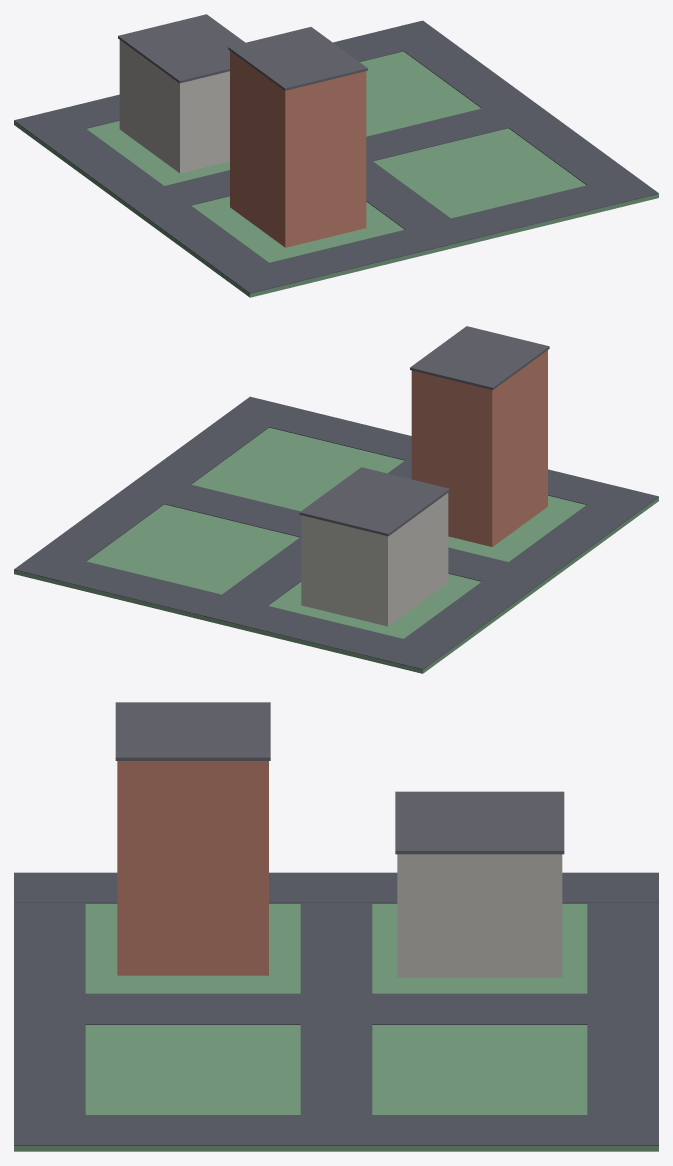
Rendered from world.glb.
3 views of the same model, one above another, from view 1: azimuth 30°, elevation 25°; view 2: azimuth 150°, elevation 25°; view 3: azimuth 270°, elevation 25° (orthographic). The views are drawn at different scales.
Visible parts, largest first — view 1: MGR Forge Test Neighborhood; view 2: MGR Forge Test Neighborhood; view 3: MGR Forge Test Neighborhood.
Boxes of the visible parts, <box> form: MGR Forge Test Neighborhood: <box>14,14,658,297</box>; MGR Forge Test Neighborhood: <box>14,326,658,673</box>; MGR Forge Test Neighborhood: <box>14,702,658,1151</box>.
Size of the model in its own units: 54 by 20.75 by 54.
